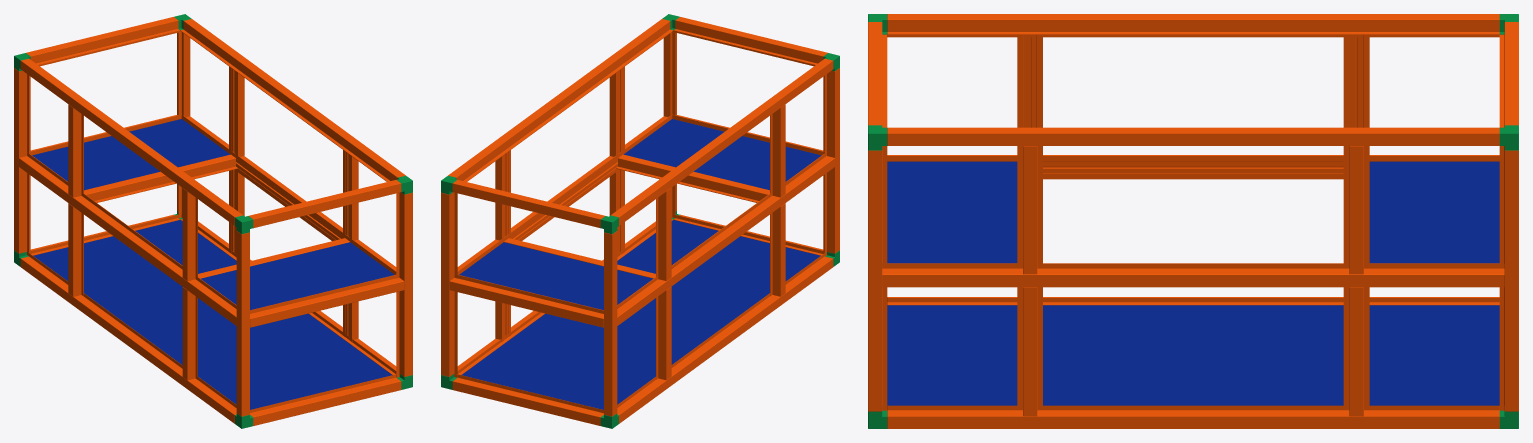
The model's file is rama2.FBX.
3 renders of one model, left to right at view 1: azimuth 30°, elevation 25°; view 2: azimuth 150°, elevation 25°; view 3: azimuth 270°, elevation 25°, orthographic. The views are drawn at different scales.
Visible parts, largest first — view 1: Object004; view 2: Object004; view 3: Object004.
Boxes of the visible parts, x1,y1,x2,y2 form: Object004: [14, 14, 412, 428]; Object004: [441, 14, 839, 428]; Object004: [868, 14, 1518, 428].
Bounding box in the file's own units: 1000 × 1153 × 2300.
